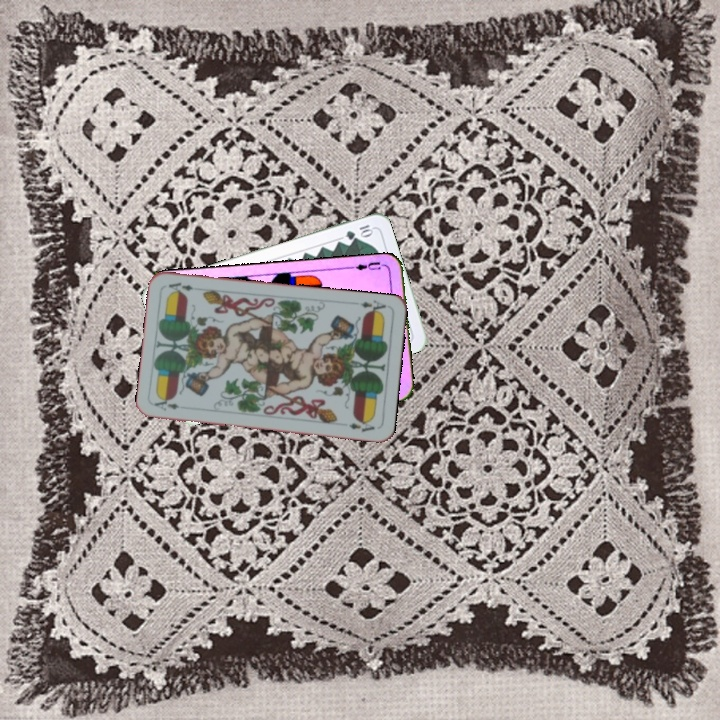EA: (356, 296, 388, 317), (150, 395, 182, 413)
EU: (347, 258, 388, 273)
G10: (342, 220, 376, 242)
